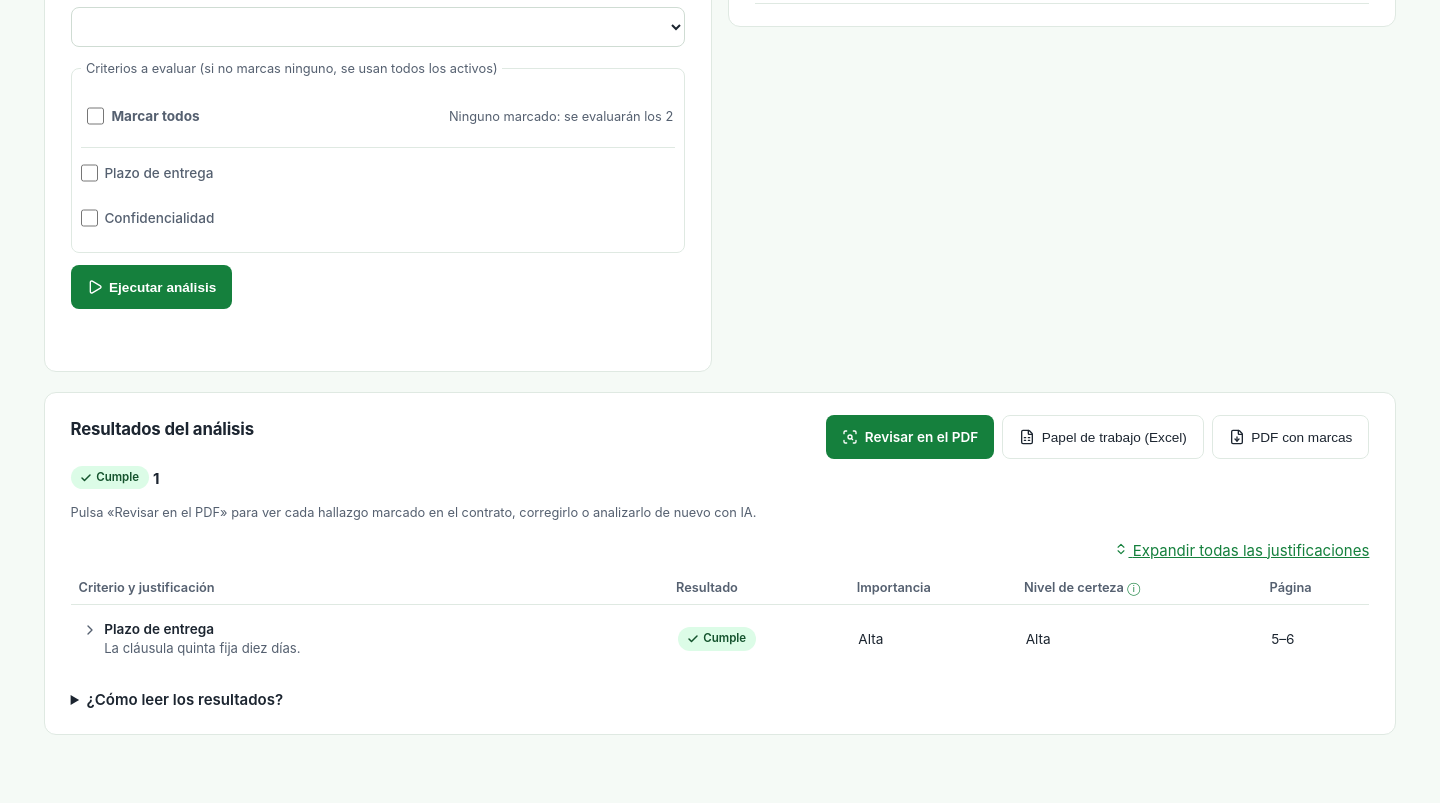
Test: App › en los resultados la justificación se despliega por fila, con la evidencia y su página
(page scrolled)
Check: the text "Evidencia en el contrato" is not shown
Step 1. Click the button "Plazo de entrega La cláusula quinta fija diez días." → [159, 629], box [80, 617, 658, 662]
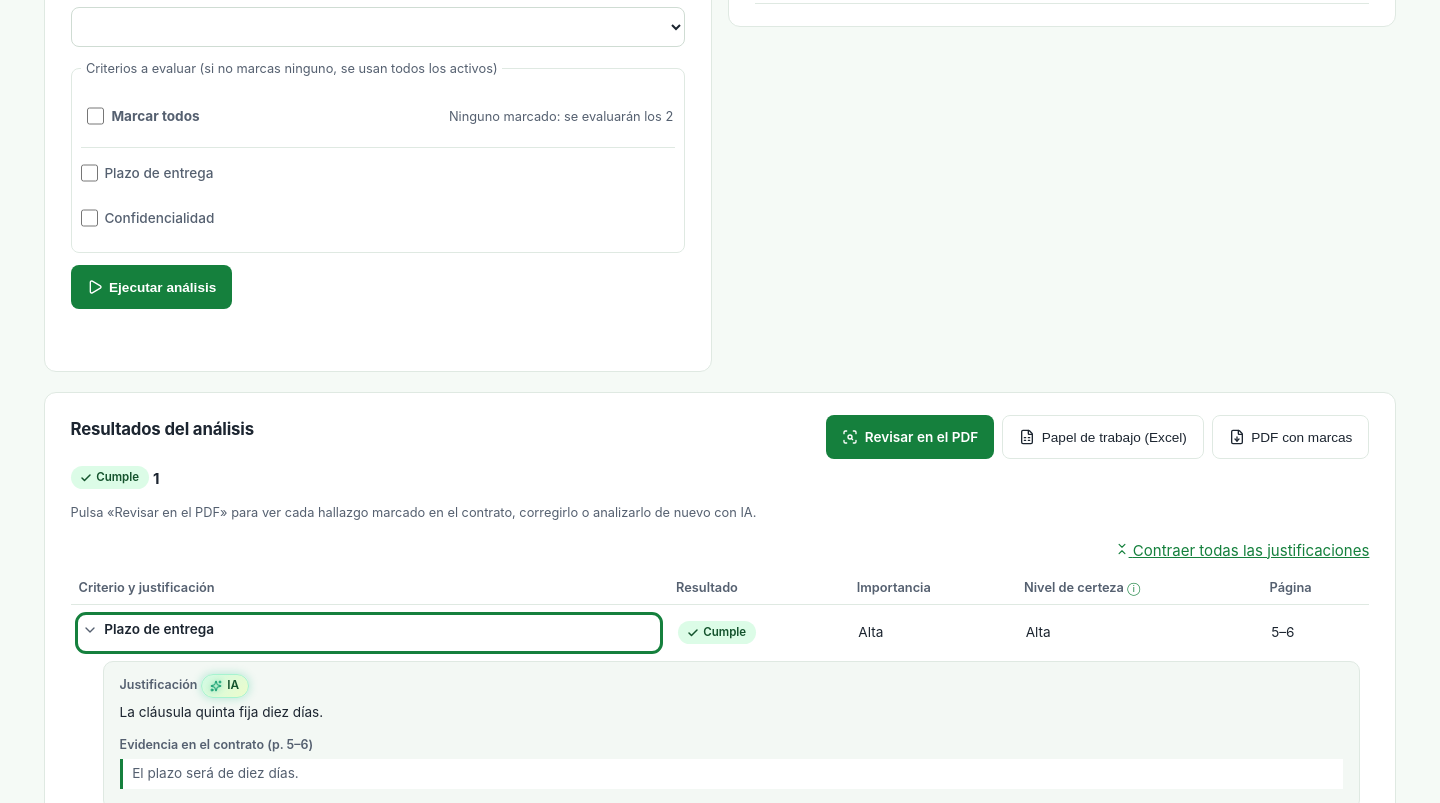
Check: the button "Plazo de entrega" is expanded, box [80, 617, 658, 649]
Check: the text "El plazo será de diez días." is shown, box [120, 759, 1343, 789]
Check: the text "Evidencia en el contrato (p. 5–6)" is shown, box [120, 737, 313, 752]
